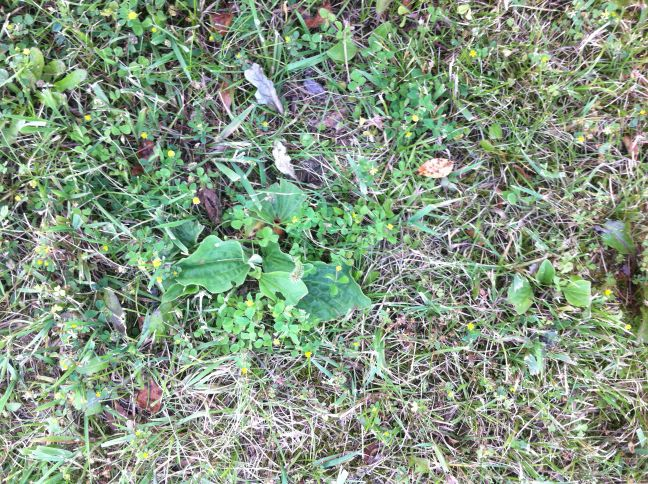weed1: (156, 181, 378, 348)
